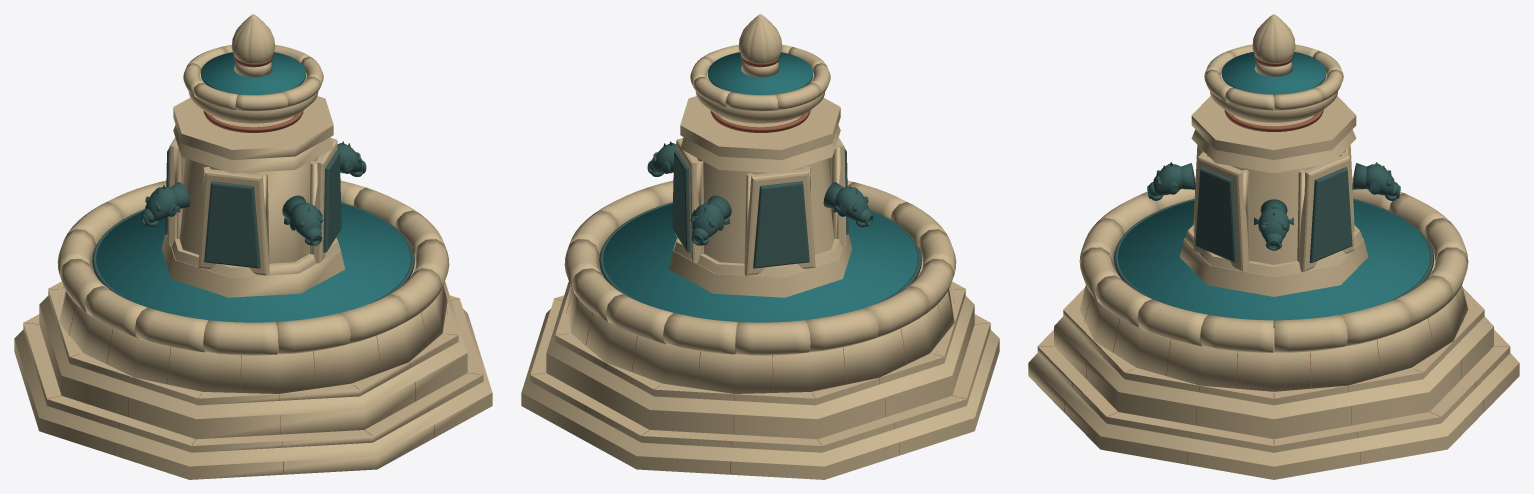
Rendered from PlazaFountain.optimized.glb.
The picture shows the model from 3 angles, left to right: view 1: azimuth 30°, elevation 25°; view 2: azimuth 150°, elevation 25°; view 3: azimuth 270°, elevation 25°; orthographic projection.
Visible parts, largest first — view 1: LOD0_Static, LOD0_UpperAssembly; view 2: LOD0_Static, LOD0_UpperAssembly; view 3: LOD0_Static, LOD0_UpperAssembly.
Boxes of the visible parts, x1=… form: LOD0_Static: x1=14, y1=96, x2=492, y2=479; LOD0_UpperAssembly: x1=183, y1=14, x2=323, y2=132; LOD0_Static: x1=521, y1=96, x2=999, y2=479; LOD0_UpperAssembly: x1=690, y1=14, x2=830, y2=132; LOD0_Static: x1=1028, y1=96, x2=1519, y2=479; LOD0_UpperAssembly: x1=1204, y1=14, x2=1343, y2=131.
Size of the model in its own units: 2.68 by 2.18 by 2.68.
